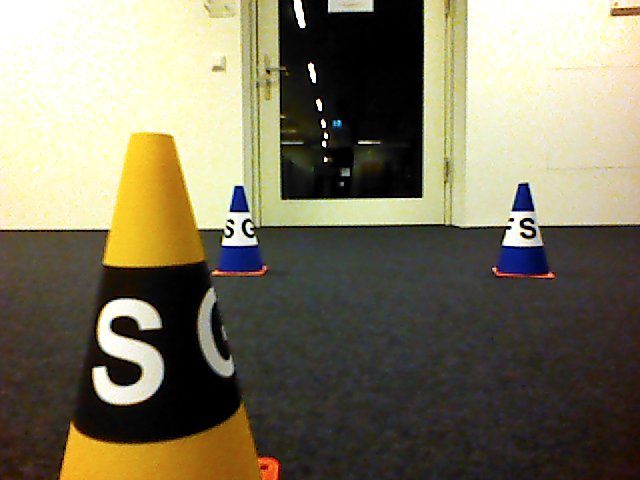bluecone: (490, 182, 559, 281), (212, 185, 269, 277)
